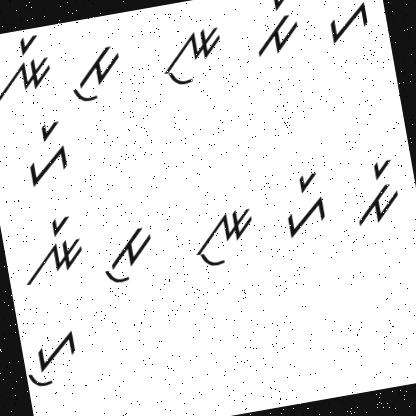ha: (322, 0, 374, 47)
har: (13, 116, 78, 191), (272, 169, 333, 242)
haw: (20, 326, 89, 392)
mbar: (344, 150, 411, 230), (244, 0, 307, 58)
mbaw: (92, 218, 163, 292), (62, 40, 129, 108)
ndar: (13, 209, 92, 290), (0, 26, 61, 109)
ndaw: (179, 201, 261, 276), (152, 12, 229, 91)
